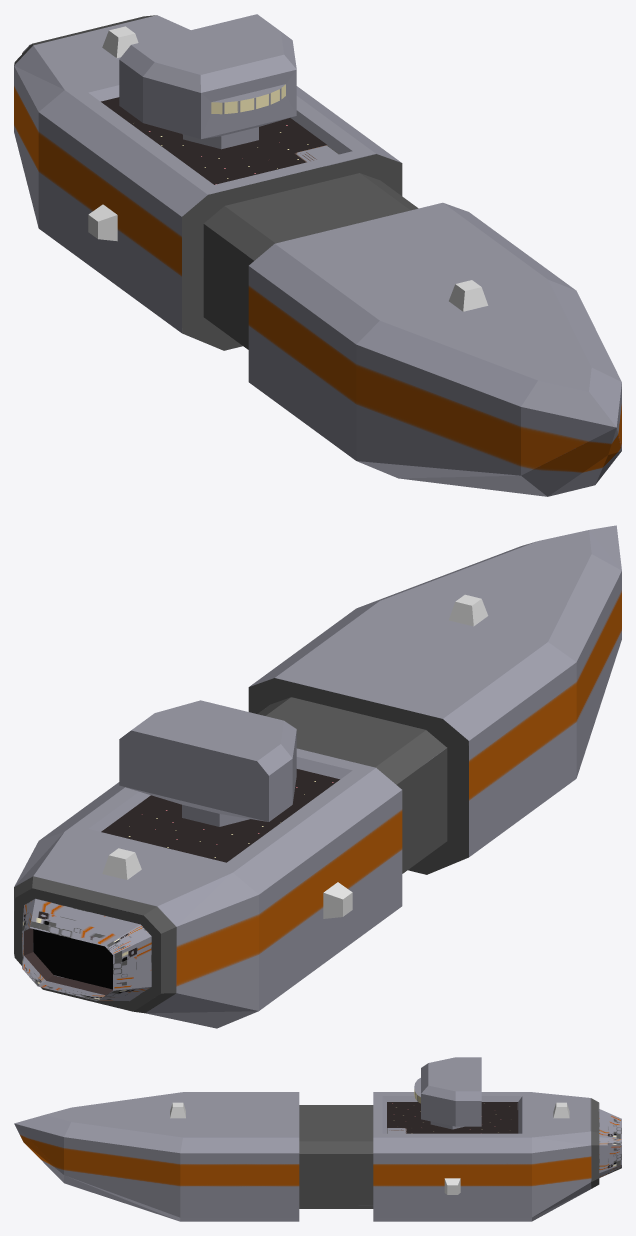
3 views of the same model, one above another, from view 1: azimuth 30°, elevation 25°; view 2: azimuth 150°, elevation 25°; view 3: azimuth 270°, elevation 25° (orthographic). The views are drawn at different scales.
Visible parts, largest first — view 1: Fuselage, Cube.003, Cube, Cube.001; view 2: Fuselage, Exhaust, Exhaust Points, Cube.003, Cube, Cube.001; view 3: Fuselage, Exhaust, Cube.002, Cube.001, Cube.
Part boxes in pixels (box(x1,y1,x2,y2)): Fuselage: box(14, 14, 621, 496); Cube.003: box(88, 204, 117, 241); Cube: box(449, 280, 488, 311); Cube.001: box(102, 26, 138, 57); Fuselage: box(14, 525, 621, 1028); Exhaust: box(22, 898, 151, 1000); Exhaust Points: box(33, 929, 112, 989); Cube.003: box(323, 882, 352, 918); Cube: box(449, 594, 488, 626); Cube.001: box(102, 848, 141, 879); Fuselage: box(14, 1057, 599, 1221); Exhaust: box(599, 1109, 621, 1177); Cube.002: box(444, 1178, 460, 1194); Cube.001: box(553, 1102, 569, 1118); Cube: box(170, 1102, 185, 1118).
Size of what is drawn, in the model's own units: 4.7 by 17.56 by 4.43.
1 material, 1 textured.
